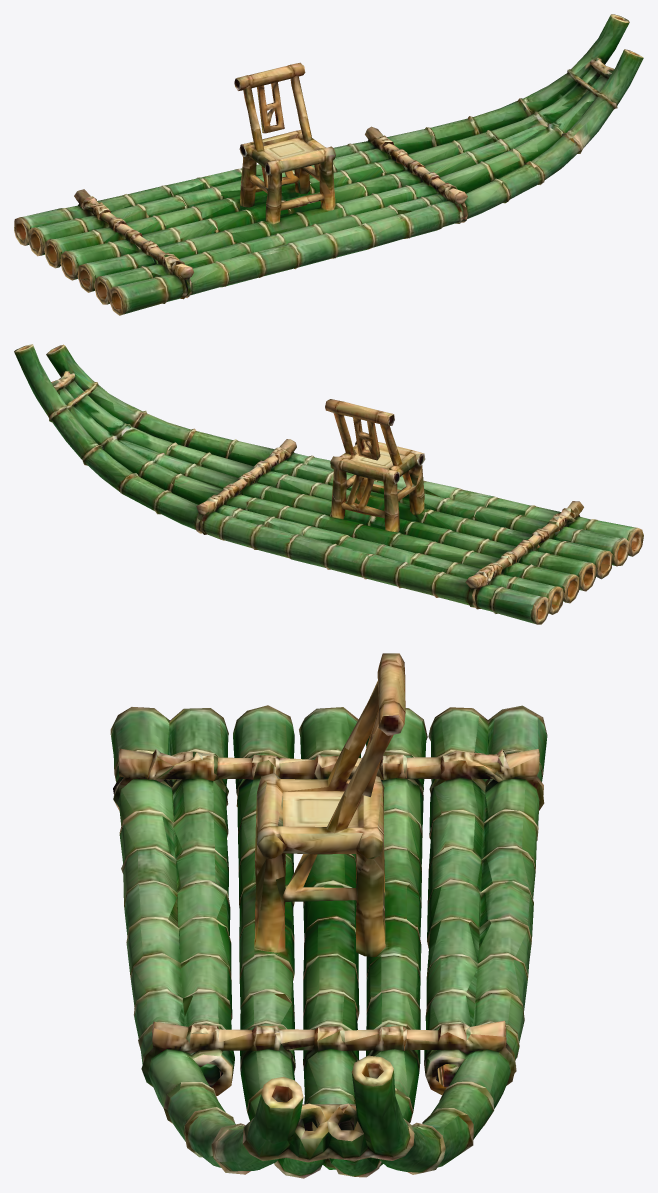
File: raft.glb
3 renders of one model, top to bottom at view 1: azimuth 30°, elevation 25°; view 2: azimuth 150°, elevation 25°; view 3: azimuth 270°, elevation 25°, orthographic. The views are drawn at different scales.
Parts seen in each view (by area): view 1: raft; view 2: raft; view 3: raft.
Part boxes in pixels (x1,y1,x2,y2): raft: (14, 14, 643, 315); raft: (14, 344, 643, 624); raft: (110, 653, 547, 1178).
Bounding box in the file's own units: 1 × 0.2429 × 0.336.
1 material, 1 textured.
